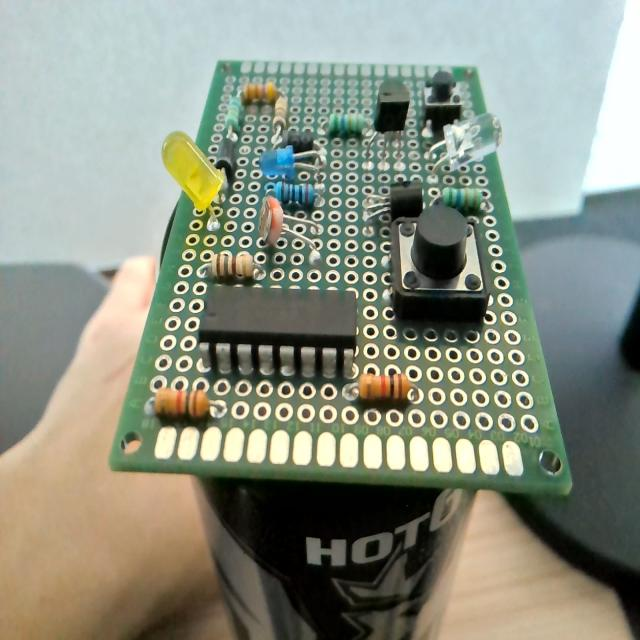IC: (198, 284, 354, 371)
cds: (258, 194, 321, 262)
diode: (279, 124, 319, 150), (217, 135, 234, 176)
led: (161, 130, 233, 236), (431, 106, 500, 174), (260, 146, 322, 178)
resistor: (148, 387, 228, 421), (206, 250, 261, 280), (359, 373, 412, 402), (264, 180, 316, 207), (442, 187, 482, 214), (242, 81, 280, 105), (225, 95, 246, 136), (329, 113, 364, 137), (273, 94, 288, 131)
switch: (390, 206, 491, 322), (423, 70, 461, 132)
transistor: (361, 173, 425, 223), (371, 80, 411, 159)
